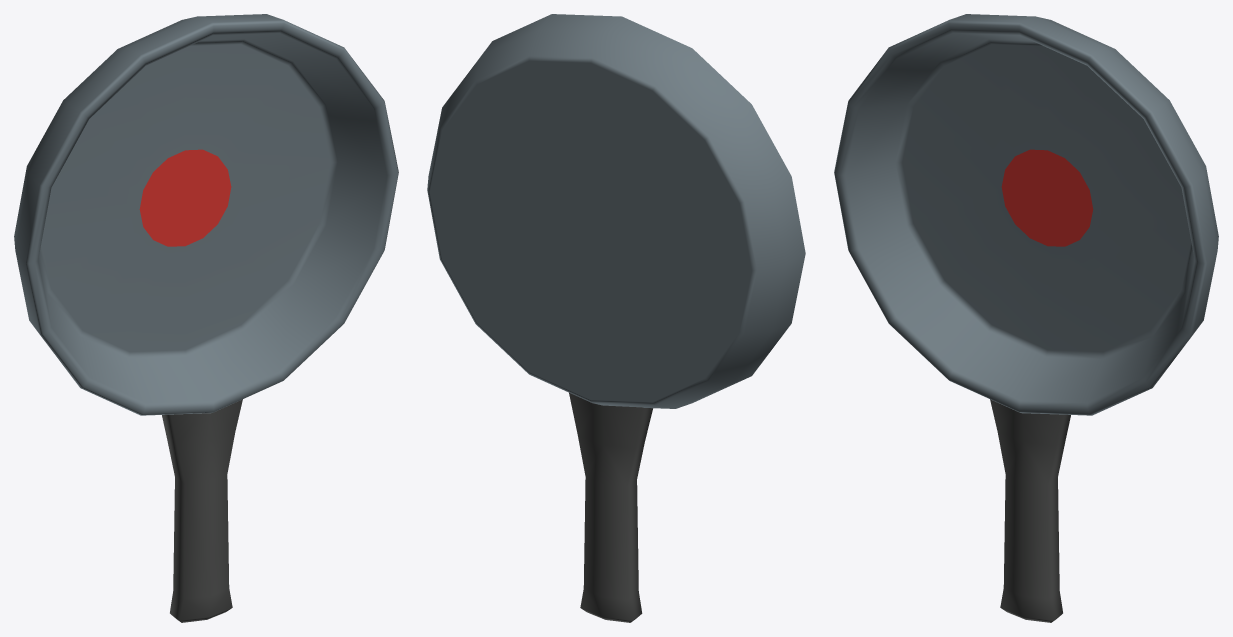
The model's file is SM_pan_001.obj.
3 views of the same model, side by side, from view 1: azimuth 30°, elevation 25°; view 2: azimuth 150°, elevation 25°; view 3: azimuth 330°, elevation 25° (orthographic).
Visible parts, largest first — view 1: SM_pan_001_M_Material; view 2: SM_pan_001_M_Material; view 3: SM_pan_001_M_Material.
Part boxes in pixels (bbox=[...]): SM_pan_001_M_Material: bbox=[14, 14, 398, 622]; SM_pan_001_M_Material: bbox=[427, 14, 805, 622]; SM_pan_001_M_Material: bbox=[834, 14, 1218, 622].
Size of the model in its own units: 0.4725 by 0.7271 by 0.0732.
1 material, 1 textured.
